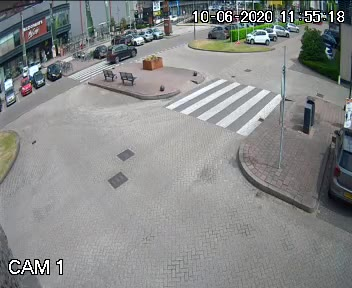car: (110, 40, 138, 62)
